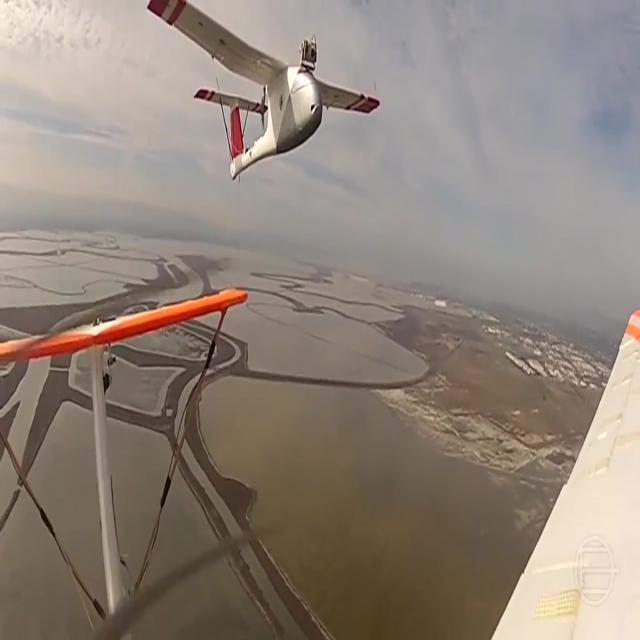iha: (138, 0, 374, 120)
